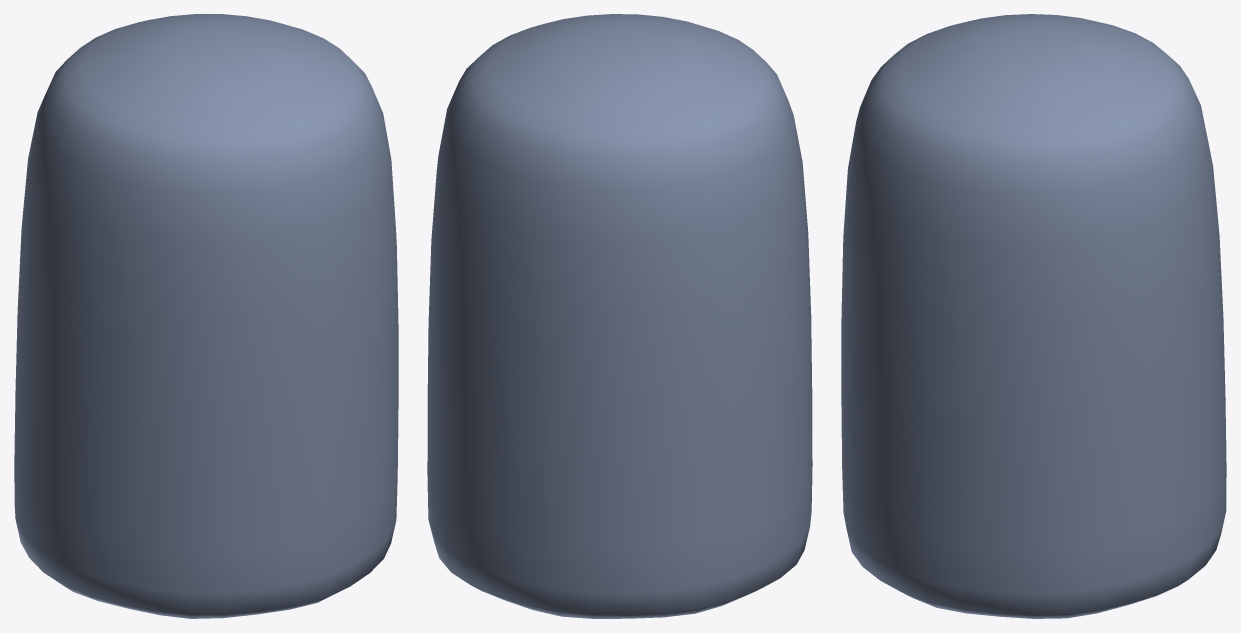
3 views of the same model, side by side, from view 1: azimuth 30°, elevation 25°; view 2: azimuth 150°, elevation 25°; view 3: azimuth 270°, elevation 25° (orthographic).
Visible parts, largest first — view 1: Cylinder.006; view 2: Cylinder.006; view 3: Cylinder.006.
Part boxes in pixels (x1=…): Cylinder.006: x1=14, y1=14, x2=398, y2=618; Cylinder.006: x1=427, y1=14, x2=812, y2=618; Cylinder.006: x1=841, y1=14, x2=1226, y2=618.
Bounding box in the file's own units: 0.00393 × 0.00572 × 0.00394.
